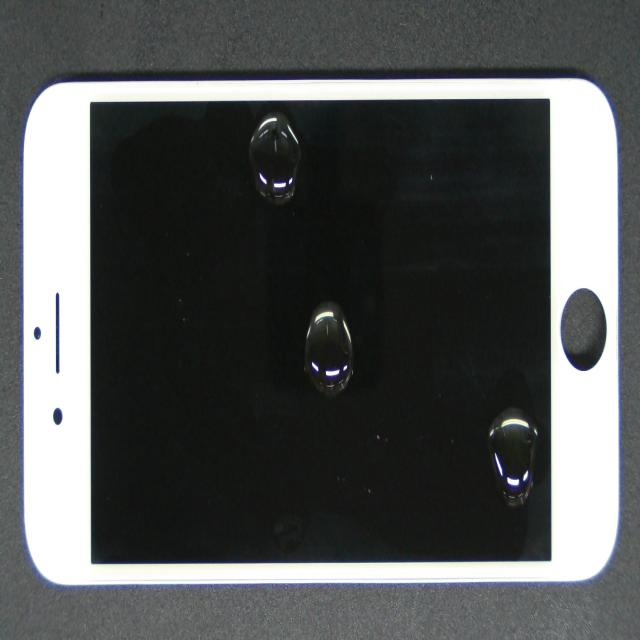oil: (295, 233, 640, 624), (194, 165, 511, 459), (162, 72, 432, 185)
